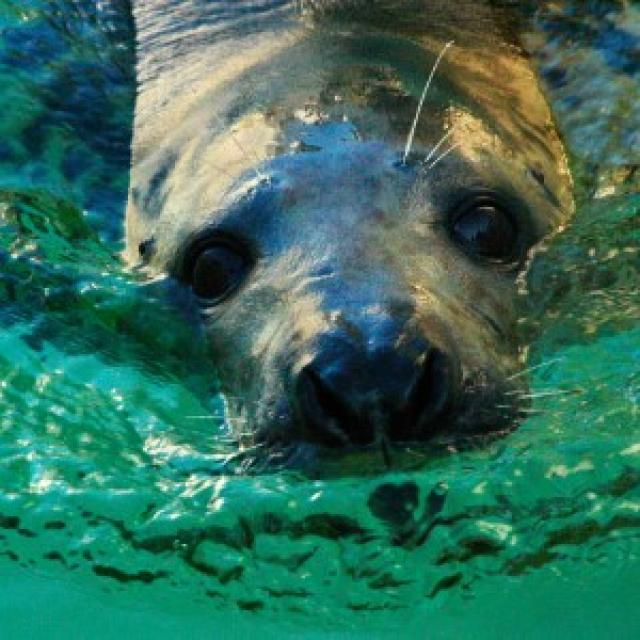Seal: (111, 3, 595, 475)
